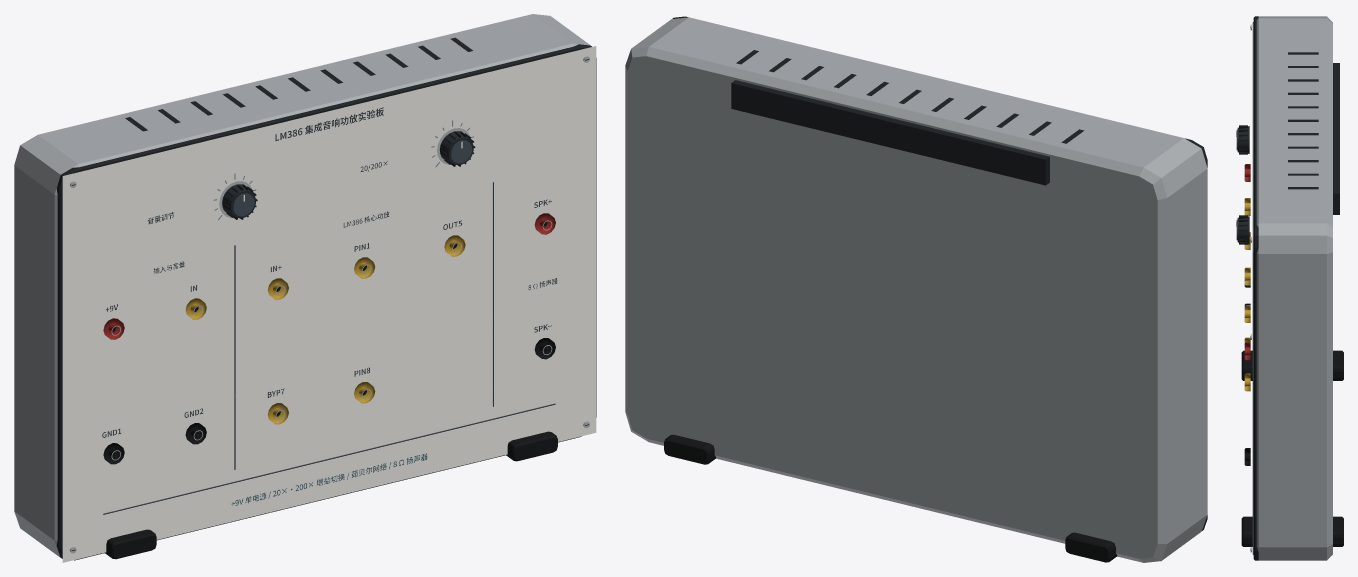
Rendered from module.glb.
3 views of the same model, side by side, from view 1: azimuth 30°, elevation 25°; view 2: azimuth 150°, elevation 25°; view 3: azimuth 270°, elevation 25° (orthographic). The views are drawn at different scales.
Visible parts, largest first — view 1: PANEL_silkscreen, STATIC_paint, STATIC_metal, MOVING_VOL_POT_paint, MOVING_SW_GAIN_paint; view 2: STATIC_paint; view 3: STATIC_paint, MOVING_VOL_POT_paint, MOVING_SW_GAIN_paint.
Part boxes in pixels (bbox=[...]): PANEL_silkscreen: bbox=[62, 46, 596, 562]; STATIC_paint: bbox=[14, 14, 596, 560]; STATIC_metal: bbox=[70, 56, 589, 553]; MOVING_VOL_POT_paint: bbox=[222, 184, 257, 219]; MOVING_SW_GAIN_paint: bbox=[440, 131, 475, 166]; STATIC_paint: bbox=[625, 16, 1207, 562]; STATIC_paint: bbox=[1241, 16, 1343, 560]; MOVING_VOL_POT_paint: bbox=[1236, 125, 1249, 154]; MOVING_SW_GAIN_paint: bbox=[1236, 215, 1249, 244].
Bounding box in the file's own units: 0.264 × 0.184 × 0.0536.
Materials: 5 (1 with a texture image).
